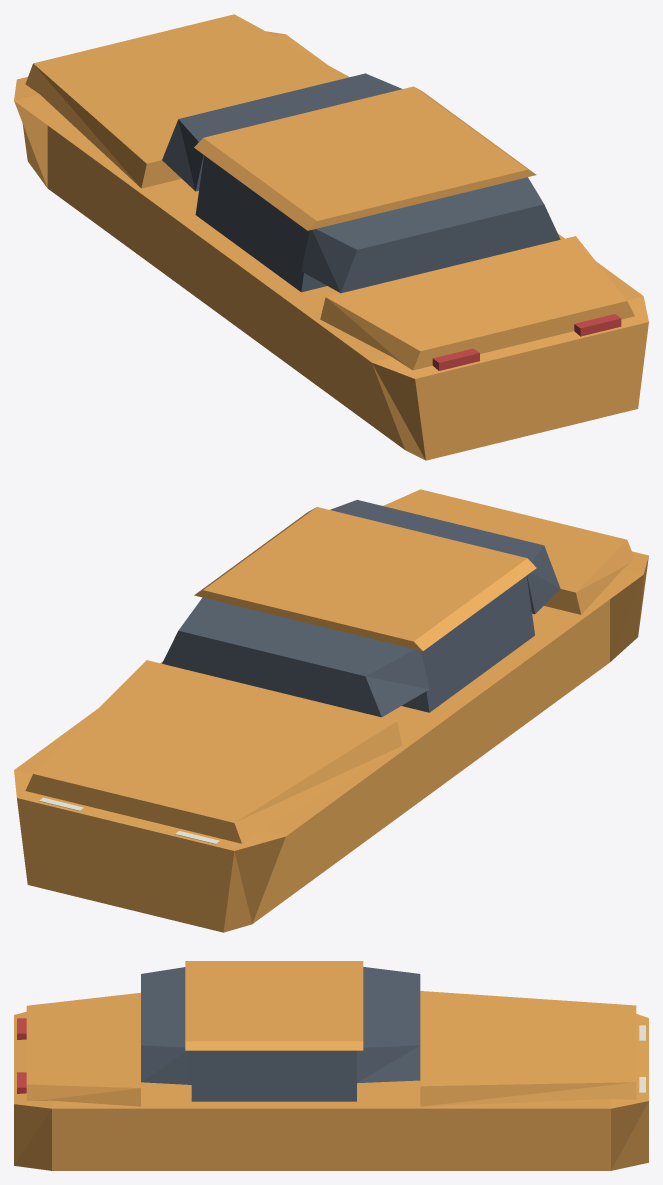
The model's file is sedan_awd.glb.
3 renders of one model, top to bottom at view 1: azimuth 30°, elevation 25°; view 2: azimuth 150°, elevation 25°; view 3: azimuth 270°, elevation 25°, orthographic. The views are drawn at different scales.
Parts seen in each view (by area): view 1: Proxy Sedan AWD; view 2: Proxy Sedan AWD; view 3: Proxy Sedan AWD.
Boxes of the visible parts, x1,y1,x2,y2 form: Proxy Sedan AWD: [14, 14, 648, 460]; Proxy Sedan AWD: [14, 489, 648, 932]; Proxy Sedan AWD: [14, 961, 648, 1170].
Size of the model in its own units: 1.7 by 1 by 4.4.
